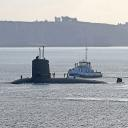submarine: (10, 48, 124, 83)
